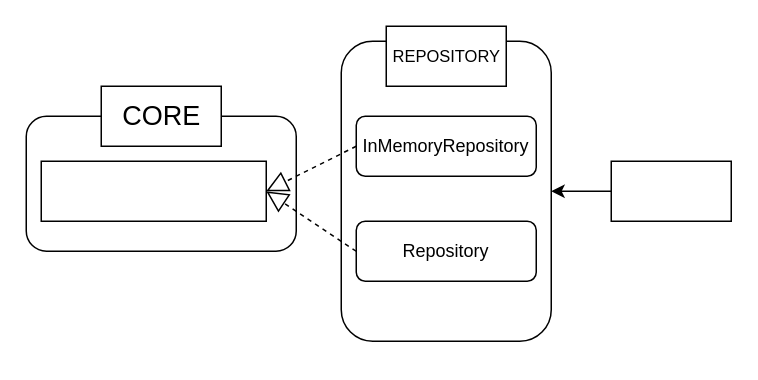
This 758x380 diagram has some shape labels left out. The shapes that lost their labels are listed below. From the top down, each one's box as (x1, y1, x2, y2) in pixels, then its label:
(40, 160, 266, 221): «interface» IRepository<INewsEntity>
(610, 160, 731, 221): SERVICES
